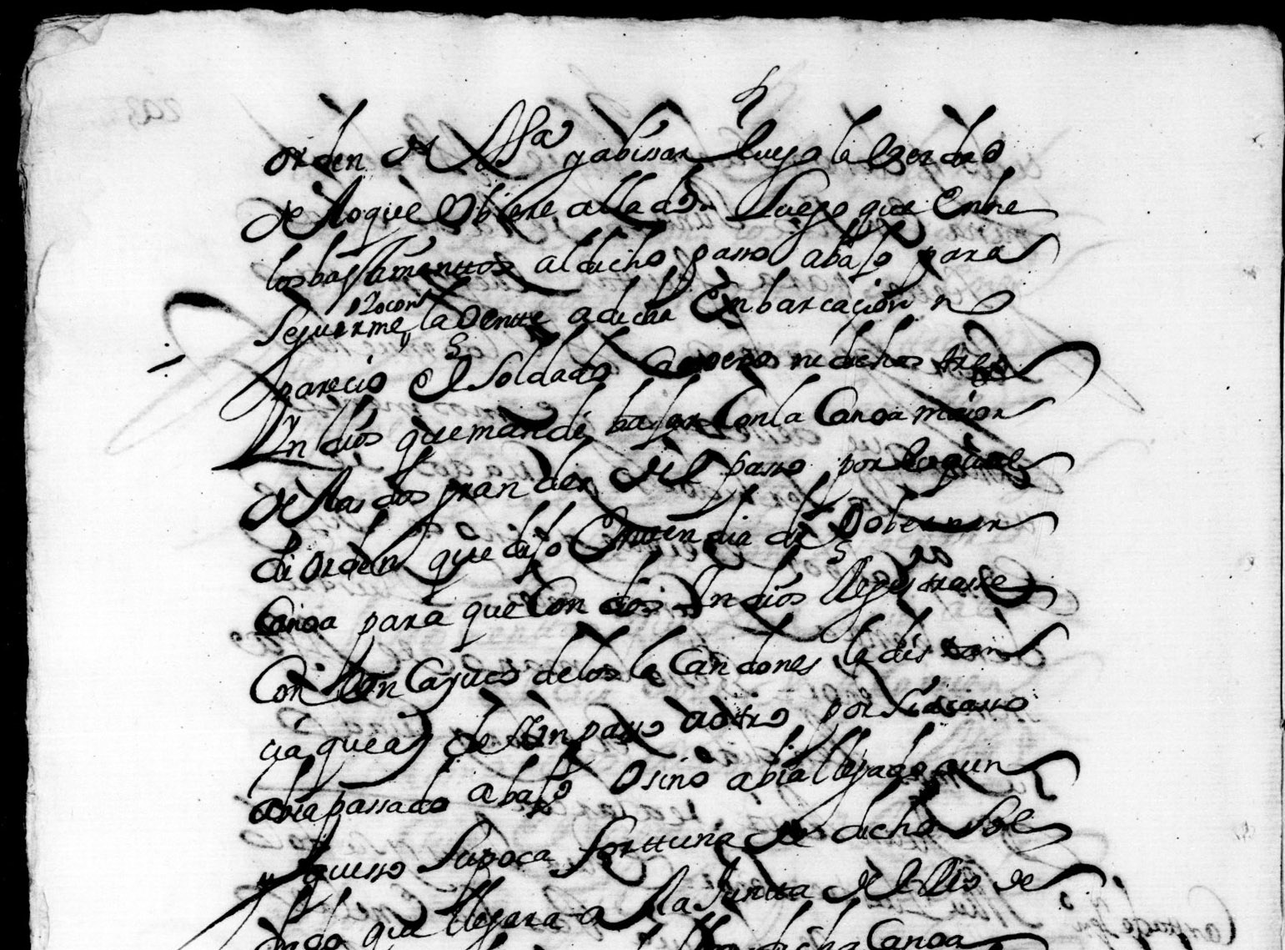lacandon: (629, 611, 822, 681)
